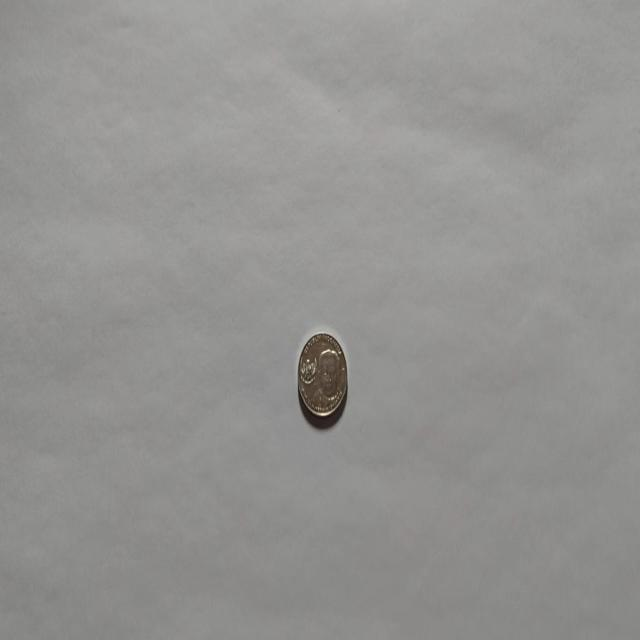seratus rupiah: (296, 330, 348, 420)
